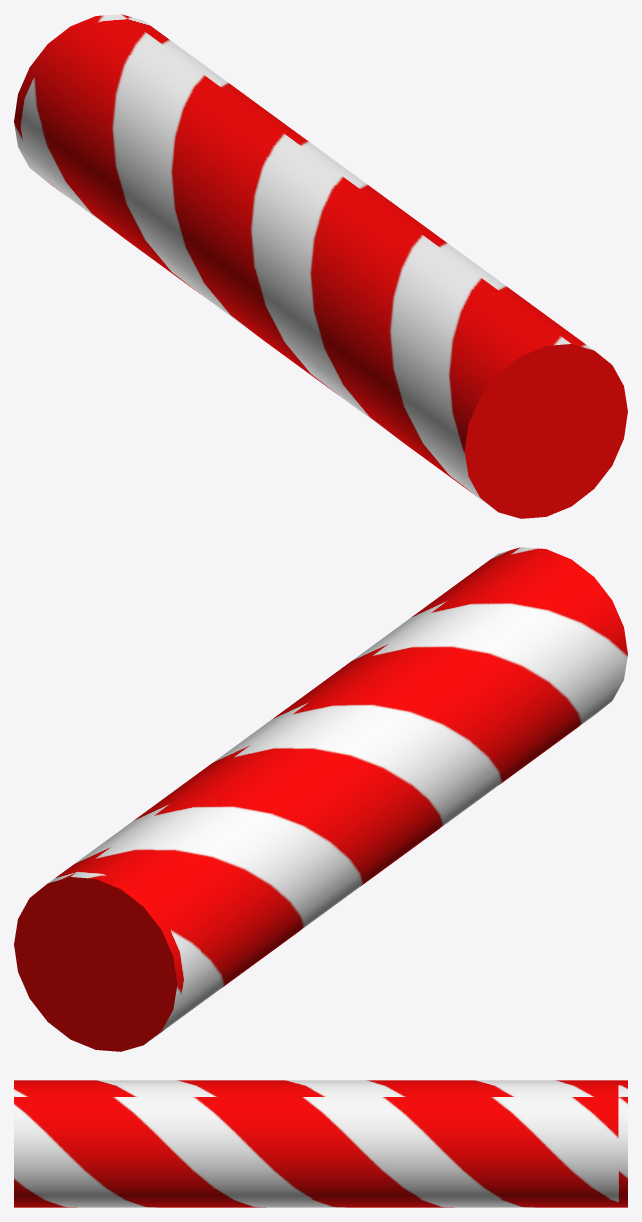
File: CandyPole.fbx
The picture shows the model from 3 angles, top to bottom: view 1: azimuth 30°, elevation 25°; view 2: azimuth 150°, elevation 25°; view 3: azimuth 270°, elevation 25°; orthographic projection. The views are drawn at different scales.
Visible parts, largest first — view 1: CandyPole; view 2: CandyPole; view 3: CandyPole.
Boxes of the visible parts, left/top/right/bottom form: CandyPole: left=14, top=14, right=627, bottom=518; CandyPole: left=14, top=547, right=627, bottom=1051; CandyPole: left=14, top=1080, right=627, bottom=1207.
Size of the model in its own units: 0.3033 by 0.3033 by 1.45.
